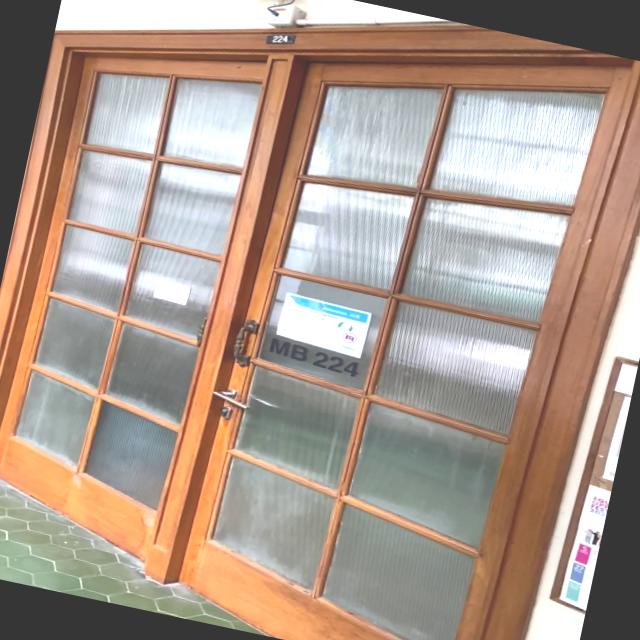room224: (262, 28, 296, 51)
room224Window: (264, 336, 364, 381)
